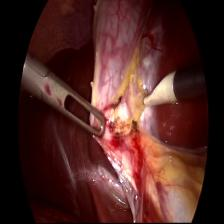Grasper: (24, 57, 106, 138)
Hook: (139, 69, 176, 109)
